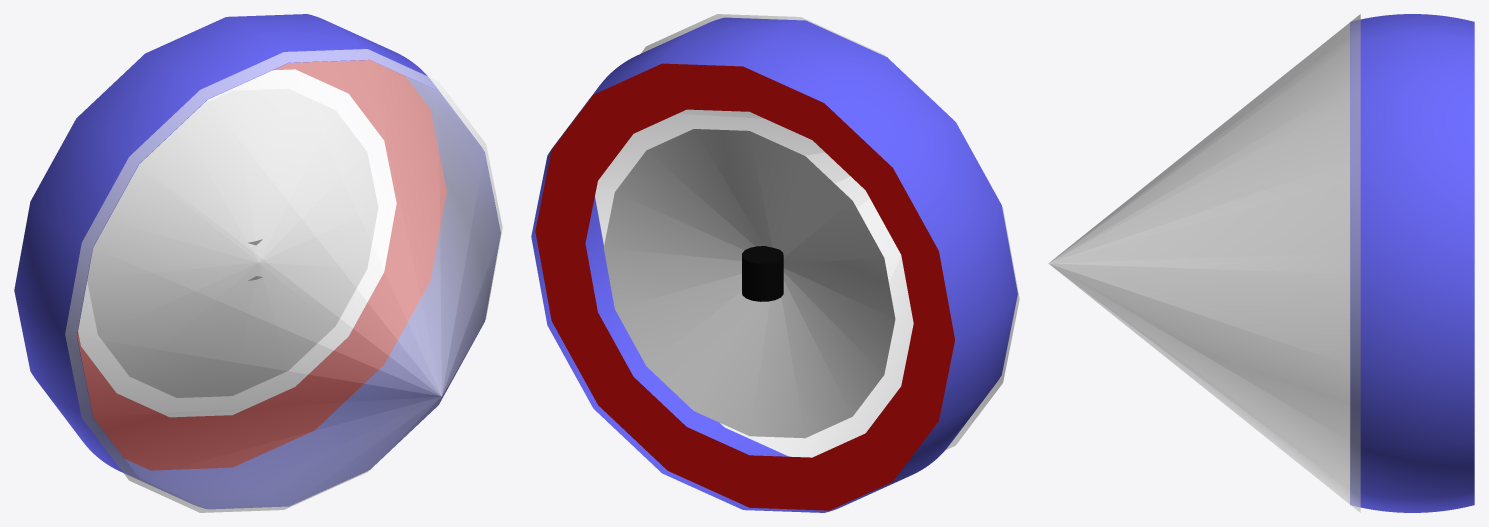
3 renders of one model, left to right at view 1: azimuth 30°, elevation 25°; view 2: azimuth 150°, elevation 25°; view 3: azimuth 270°, elevation 25°, orthographic.
Visible parts, largest first — view 1: mesh_2, mesh_1, mesh_3, mesh_4; view 2: mesh_3, mesh_4, mesh_1, mesh_2, mesh_5; view 3: mesh_2, mesh_1.
Boxes of the visible parts, left/top/right/bottom form: mesh_2: left=65, top=49, right=502, bottom=512; mesh_1: left=14, top=14, right=500, bottom=509; mesh_3: left=87, top=89, right=377, bottom=397; mesh_4: left=77, top=60, right=446, bottom=470; mesh_3: left=603, top=129, right=895, bottom=438; mesh_4: left=535, top=63, right=954, bottom=510; mesh_1: left=531, top=17, right=1017, bottom=512; mesh_2: left=595, top=14, right=1019, bottom=457; mesh_5: left=742, top=246, right=783, bottom=301; mesh_2: left=1048, top=14, right=1360, bottom=512; mesh_1: left=1350, top=14, right=1474, bottom=512.
Size of the model in its own units: 0.48 by 0.48 by 0.4097.
